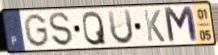G: (22, 13, 51, 49)
K: (142, 9, 167, 44)
M: (162, 5, 201, 45)
Q: (81, 10, 108, 47)
S: (48, 11, 75, 48)
U: (106, 8, 136, 46)
